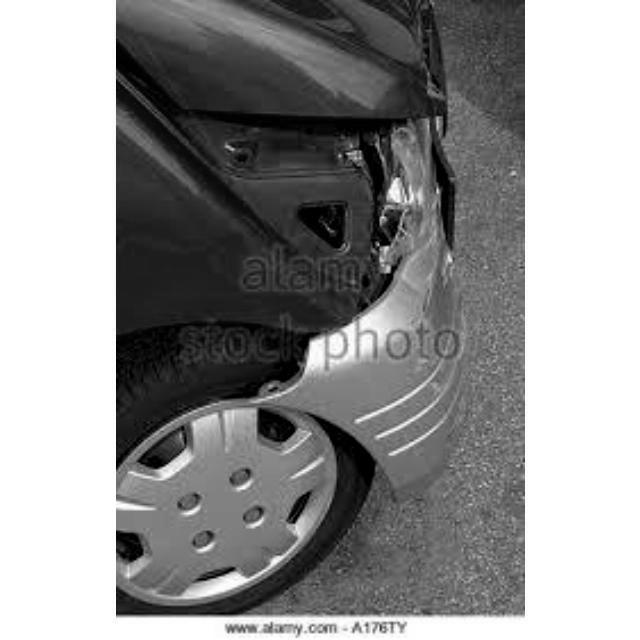rear-bumper-dent: (172, 176, 484, 426)
